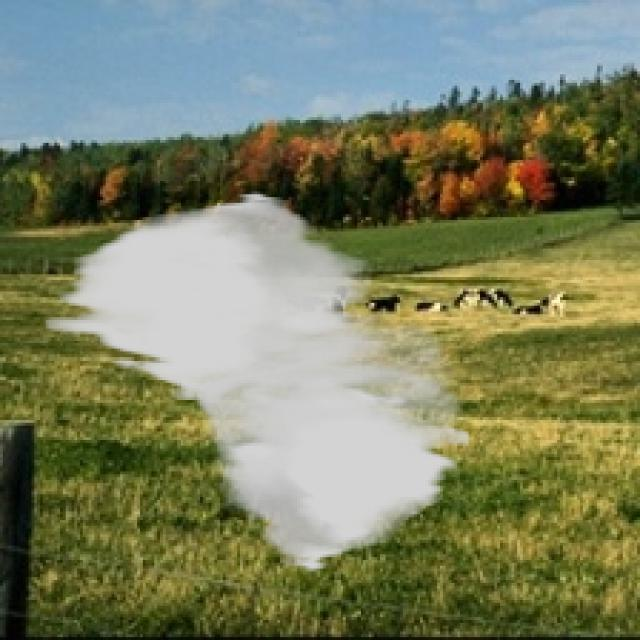Smoke: (46, 192, 472, 574)
